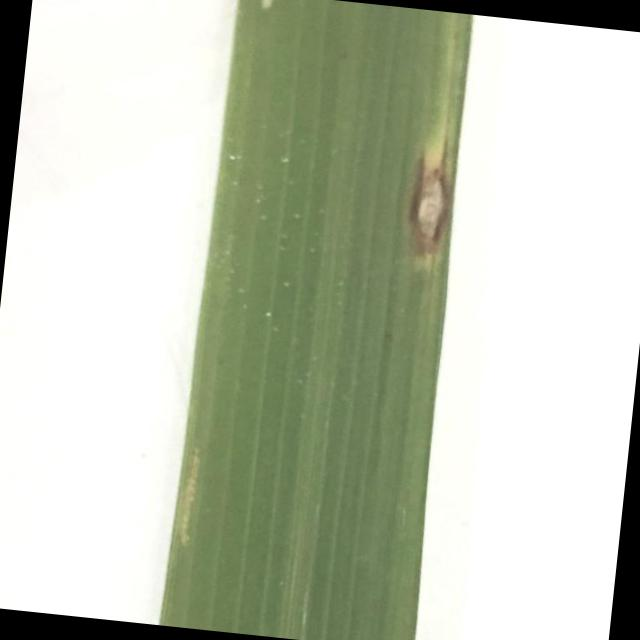Rice_Blast: (378, 99, 488, 292)
